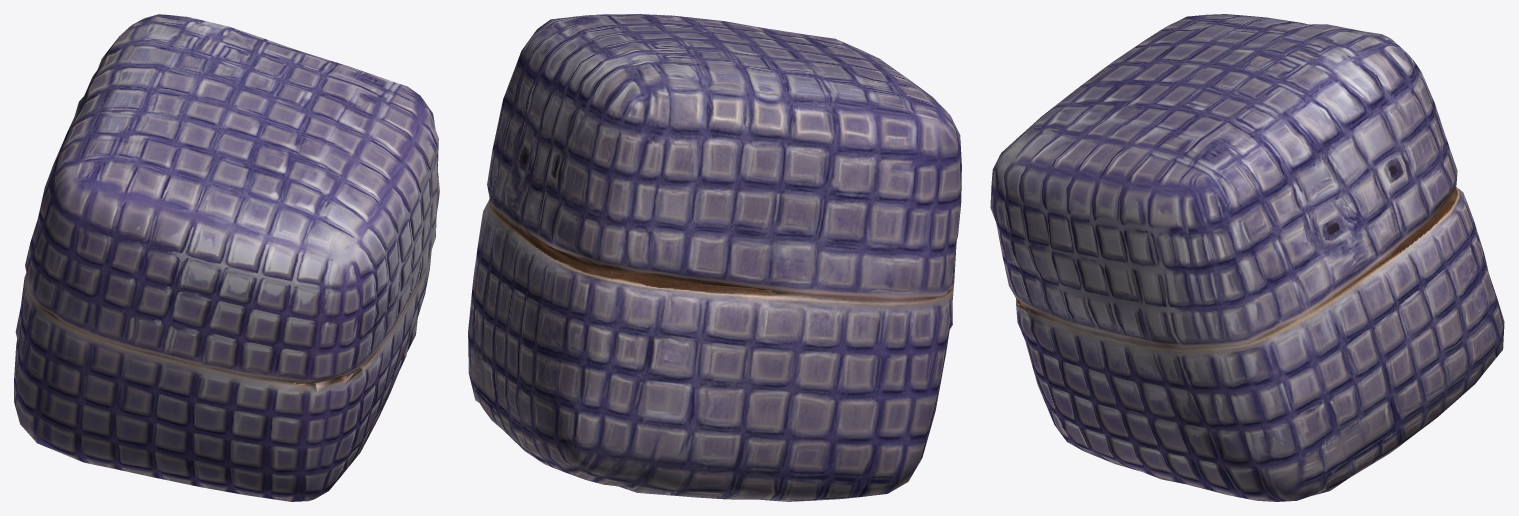
The model's file is shulker_single_1500.glb.
The picture shows the model from 3 angles, left to right: view 1: azimuth 30°, elevation 25°; view 2: azimuth 150°, elevation 25°; view 3: azimuth 270°, elevation 25°; orthographic projection. The views are drawn at different scales.
Size of the model in its own units: 0.894 by 0.8553 by 0.9721.
1 material, 1 textured.
